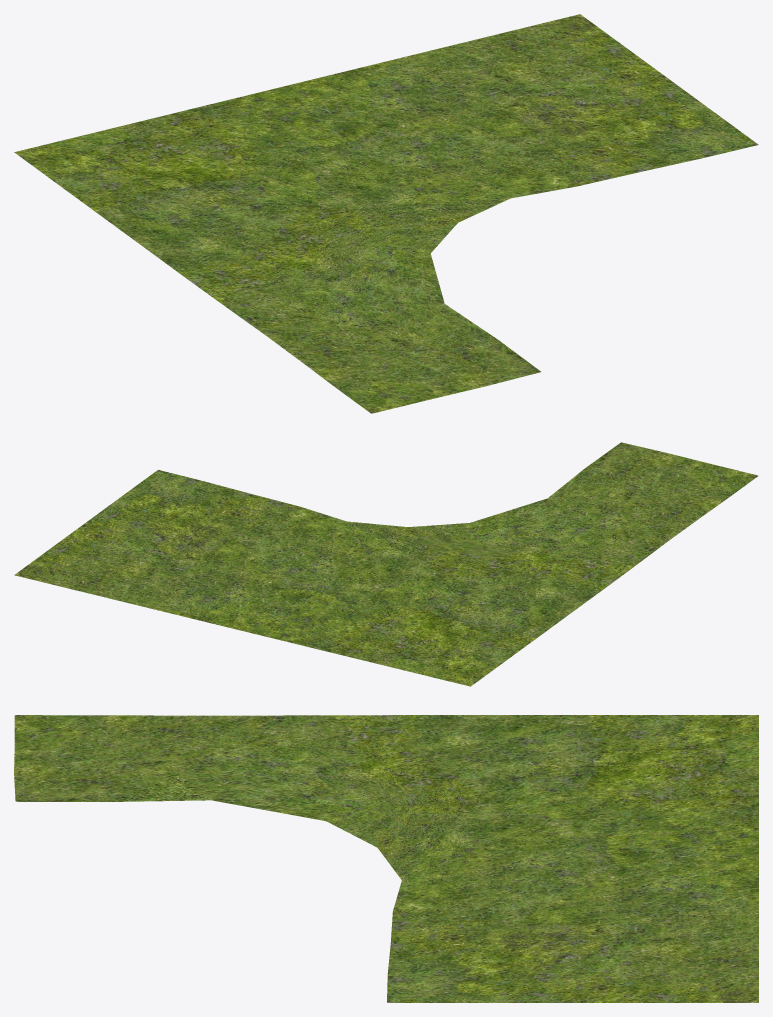
File: Pasto.obj
3 renders of one model, top to bottom at view 1: azimuth 30°, elevation 25°; view 2: azimuth 150°, elevation 25°; view 3: azimuth 270°, elevation 25°, orthographic. The views are drawn at different scales.
Parts seen in each view (by area): view 1: Piso1:pPlane1; view 2: Piso1:pPlane1; view 3: Piso1:pPlane1.
Part boxes in pixels (x1,y1,x2,y2): Piso1:pPlane1: (14, 14, 758, 413); Piso1:pPlane1: (14, 442, 758, 686); Piso1:pPlane1: (14, 715, 758, 1002).
Size of the model in its own units: 37.29 by 2e-06 by 40.81.
1 material, 1 textured.
